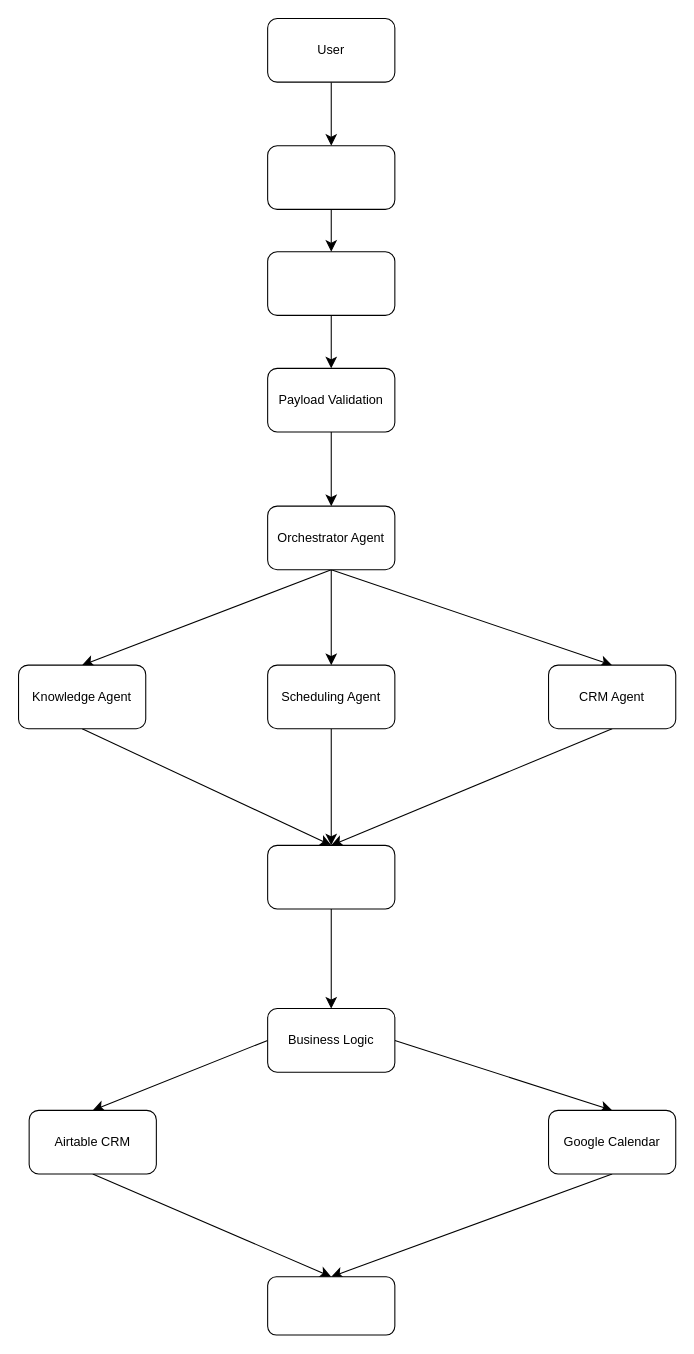
Some shapes in this 694 by 1354 pixel diagram are drawn without their labels. The shapes that lost their labels are listed below. From the top down, each one's box as (x1, y1, x2, y2) in pixels, then its label:
(267, 145, 395, 209): WhatsApp Business API
(267, 251, 395, 315): n8n Webhook
(267, 844, 395, 909): Conversation Memory
(267, 1276, 395, 1335): Admin Notifications
